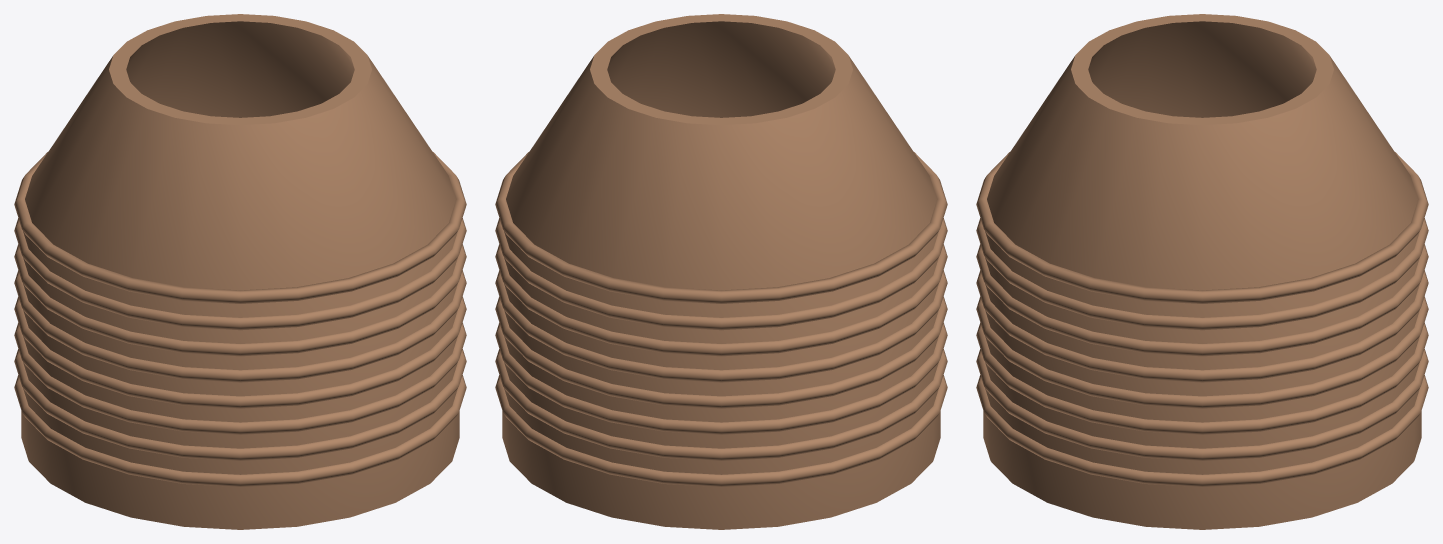
File: primitive-crafting-workshop-coil-built-jar-1ae9f813__21581.glb
3 renders of one model, left to right at view 1: azimuth 30°, elevation 25°; view 2: azimuth 150°, elevation 25°; view 3: azimuth 270°, elevation 25°, orthographic.
Visible parts, largest first — view 1: coil-built-jar; view 2: coil-built-jar; view 3: coil-built-jar.
Part boxes in pixels (left/top/right/bottom): coil-built-jar: left=14, top=14, right=466, bottom=529; coil-built-jar: left=495, top=14, right=947, bottom=529; coil-built-jar: left=976, top=14, right=1428, bottom=529.
Size of the model in its own units: 0.392 by 0.37 by 0.392.
